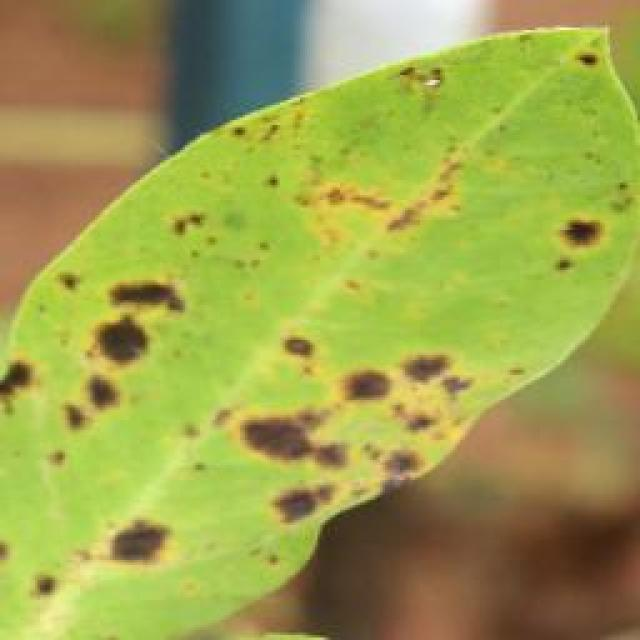Yellowish: (0, 37, 621, 564)
